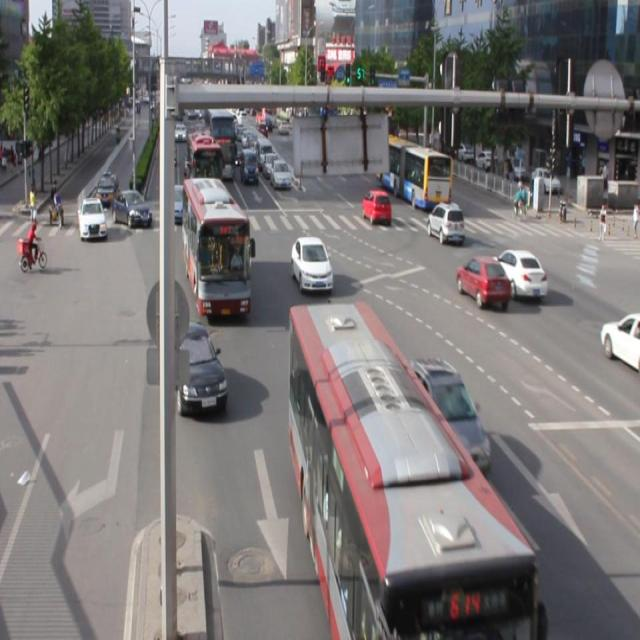car: (406, 355, 489, 472), (172, 318, 227, 412), (490, 245, 547, 298), (456, 253, 509, 306), (598, 311, 640, 372), (292, 233, 333, 290), (425, 199, 464, 243)
van: (288, 303, 534, 640), (184, 177, 252, 315)
